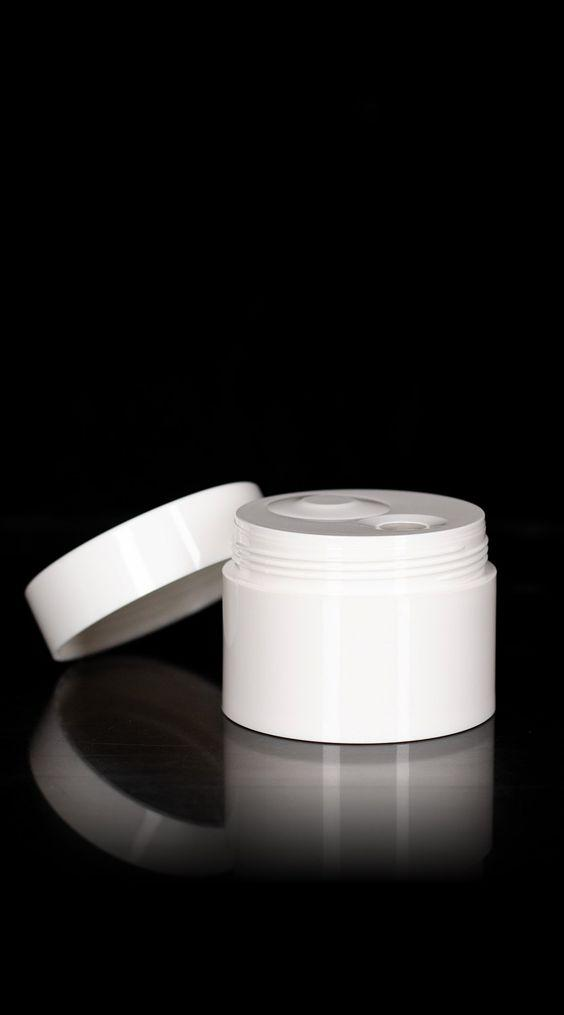HDPE: (24, 482, 259, 662)
PP: (222, 482, 494, 748)
